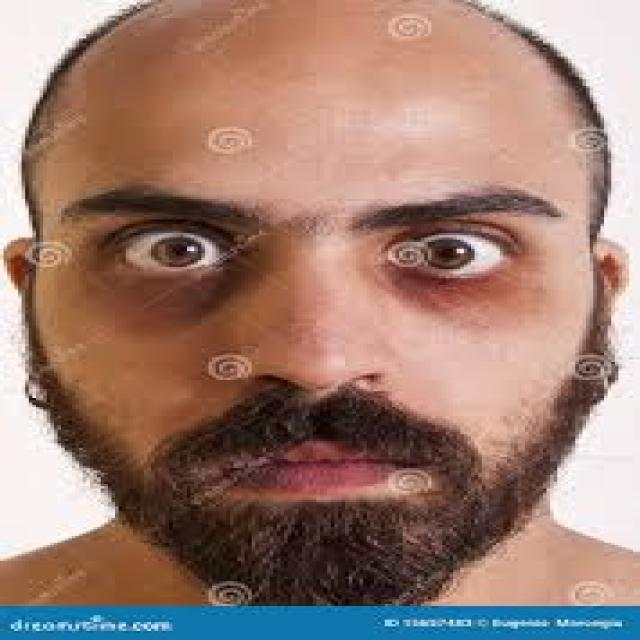high: (85, 274, 238, 297)
moderate: (407, 270, 548, 317)
